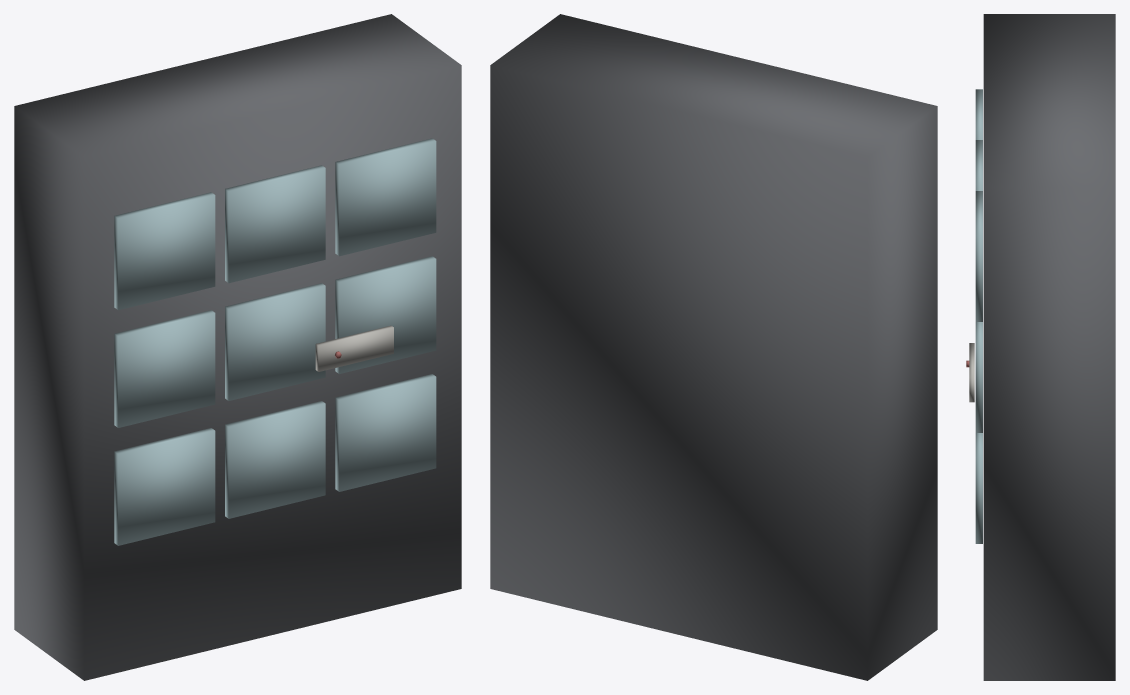
Rendered from security_monitor_bank__tall.glb.
The picture shows the model from 3 angles, left to right: view 1: azimuth 30°, elevation 25°; view 2: azimuth 150°, elevation 25°; view 3: azimuth 270°, elevation 25°; orthographic projection. The views are drawn at different scales.
Visible parts, largest first — view 1: world; view 2: world; view 3: world.
Boxes of the visible parts, x1,y1,x2,y2 form: world: [14, 14, 461, 680]; world: [490, 14, 937, 680]; world: [966, 14, 1115, 680].
Size of the model in its own units: 1.4 by 1.86 by 0.5085.
